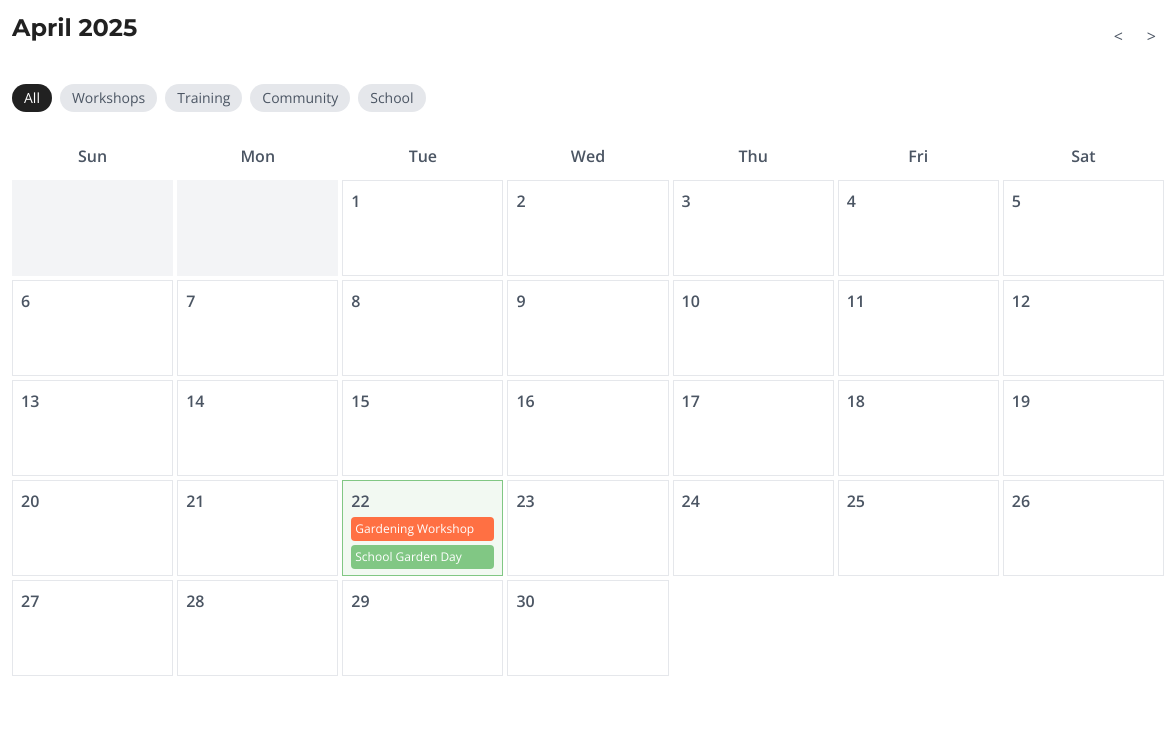
Test: Interactive Features Tests › EventCalendar Component › category filtering works
The width and height of the screenshot is (1176, 732).
# Click on Workshops filter
Click the button "Workshops".
click(109, 98)  # box [60,84,157,112]
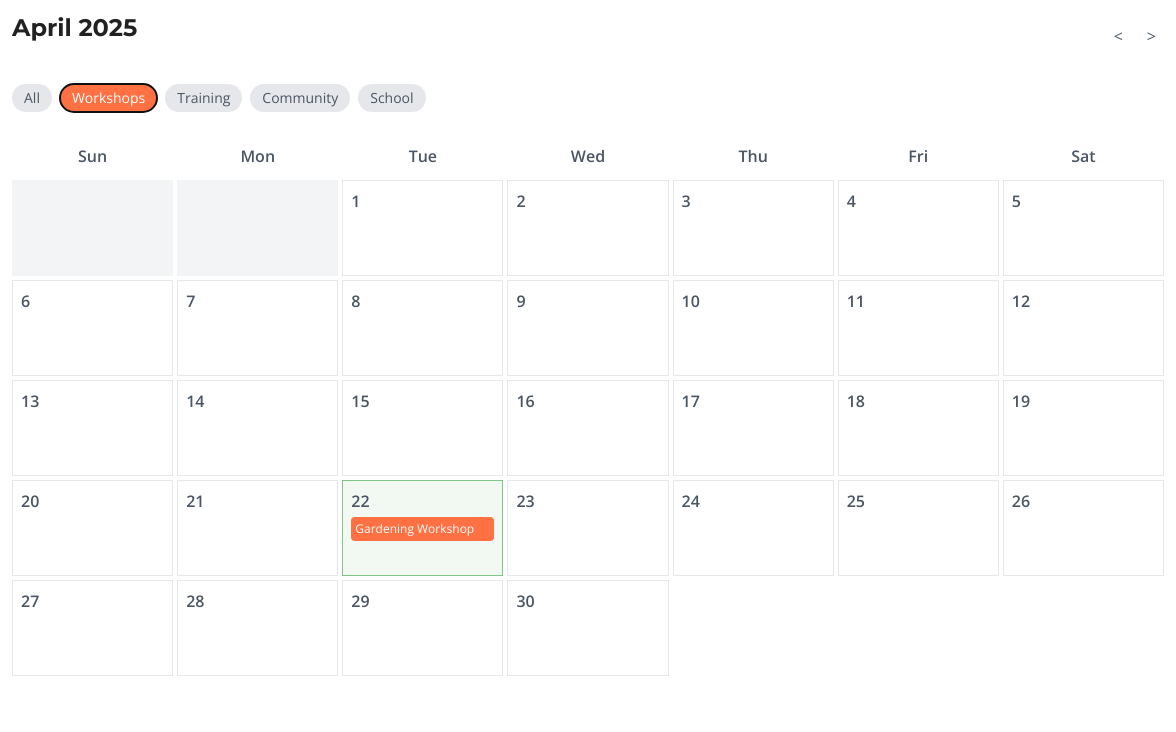
Check: the text "Gardening Workshop" is shown, box [351,517,494,541]
Check: the text "School Garden Day" is gone
